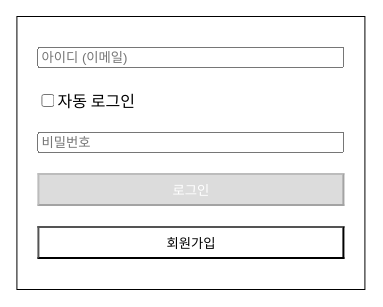
Test: login 페이지 테스트 › 17. MyPage에서 현재 로그인 한 유저의 아이디(이메일)가 표시되는가
This screenshot has width=383, height=307.
Type "test@naver.com" into the field with id "email".
click(191, 58); type("test@naver.com")  # box [37,47,344,68]
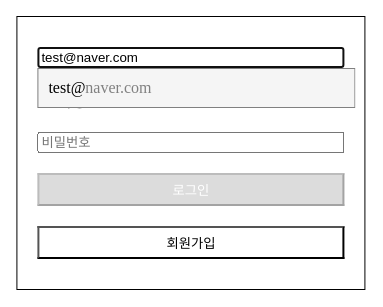
Type "test" into the password field with placeholder "비밀번호".
click(191, 143); type("test")  # box [37,132,344,153]
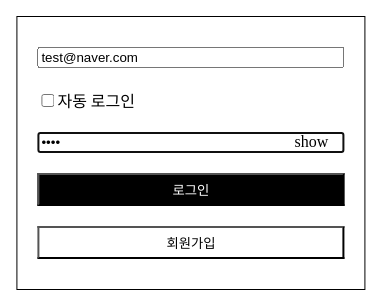
Click the button with id "loginButton".
click(191, 190)  # box [37,173,344,206]
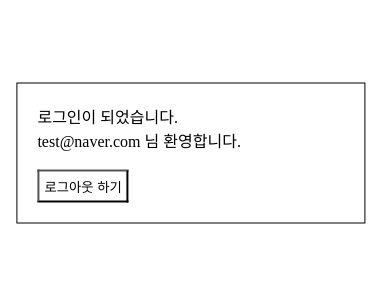
Check: the text "test@naver.com" is shown, box [37,133,140,150]
